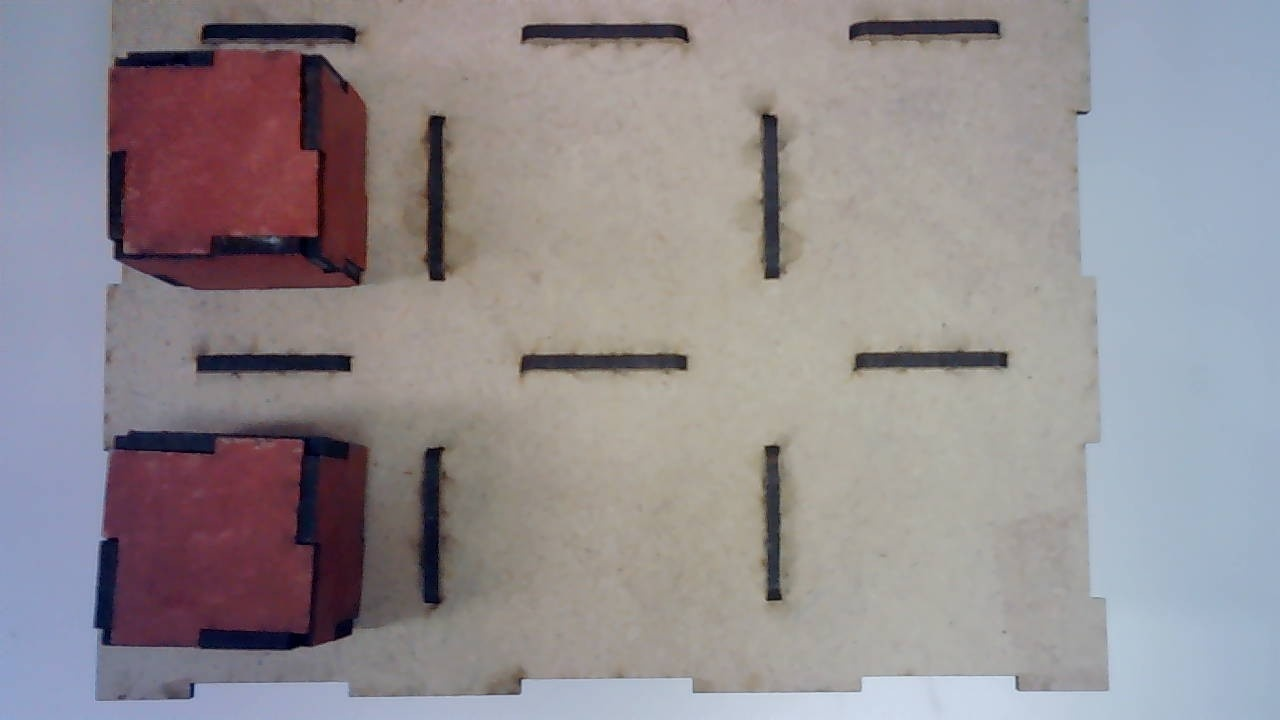red box: (102, 46, 369, 293), (95, 428, 367, 655)
